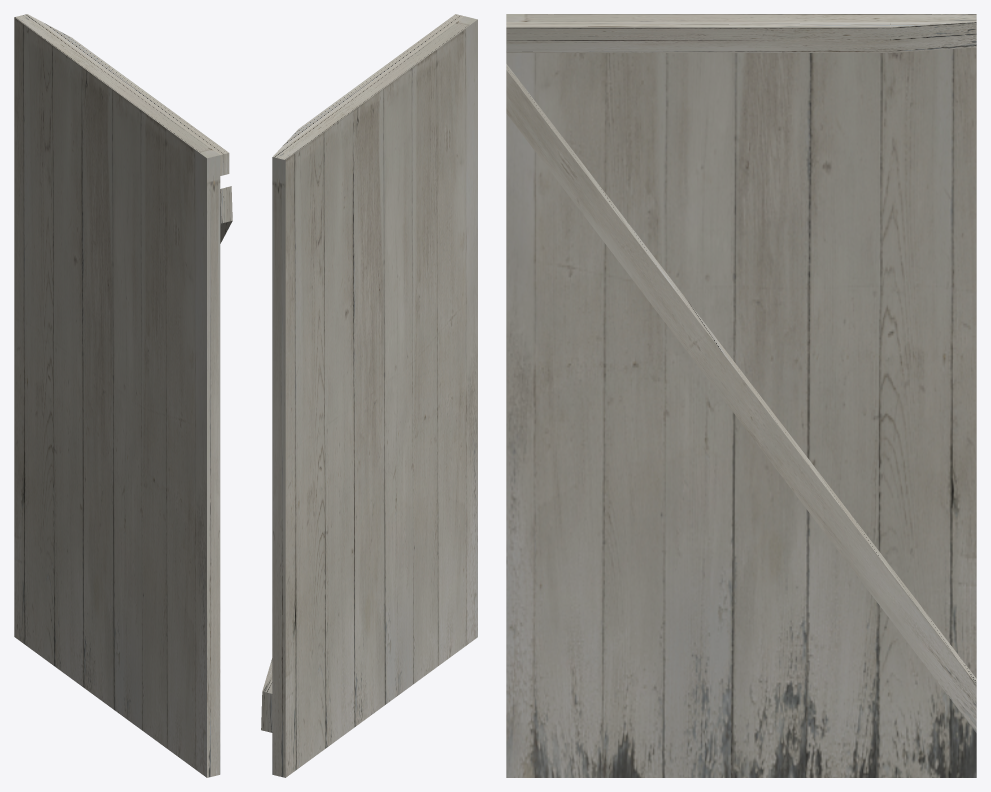
The model's file is PortaDir.fbx.
3 renders of one model, left to right at view 1: azimuth 30°, elevation 25°; view 2: azimuth 150°, elevation 25°; view 3: azimuth 270°, elevation 25°, orthographic. The views are drawn at different scales.
Parts seen in each view (by area): view 1: PortaDir; view 2: PortaDir; view 3: PortaDir.
Part boxes in pixels (x1,y1,x2,y2): PortaDir: (14, 14, 232, 777); PortaDir: (261, 14, 477, 777); PortaDir: (506, 14, 976, 777).
Size of the model in its own units: 1.28 by 29.52 by 16.65.
